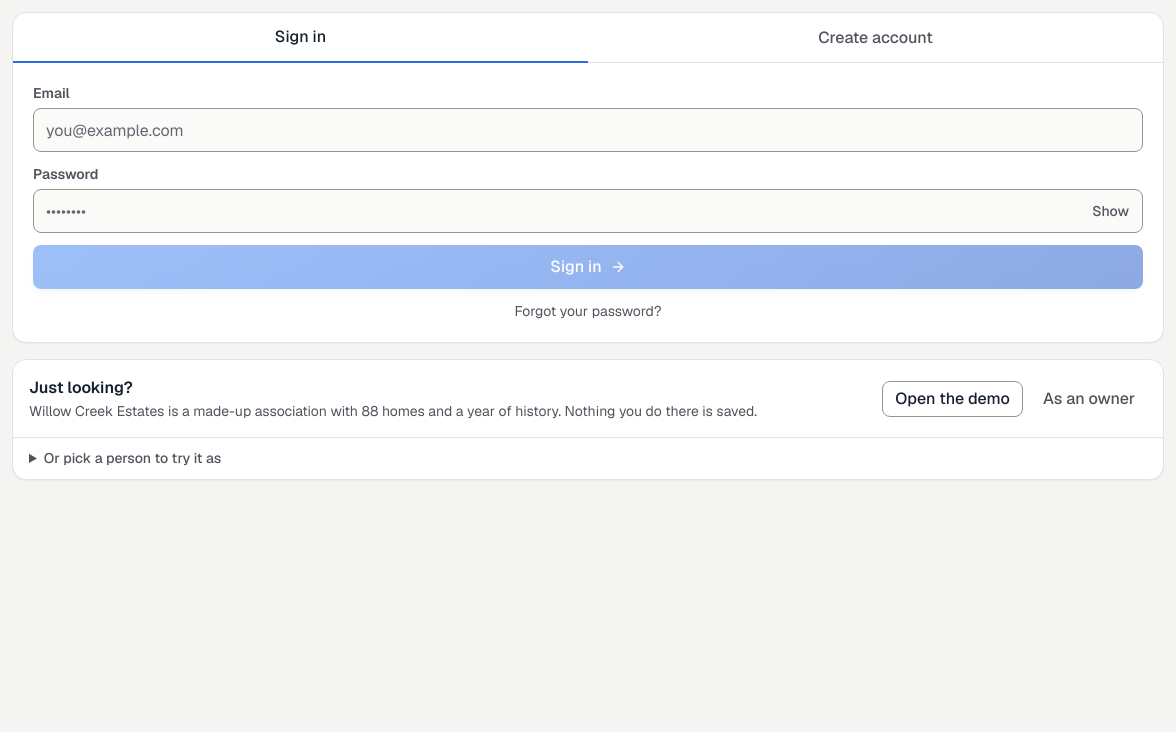
Scenario: sign in › does not let somebody choose their own unit at signup
Click the button "Create account" at [876, 38], box [588,13,1163,62]
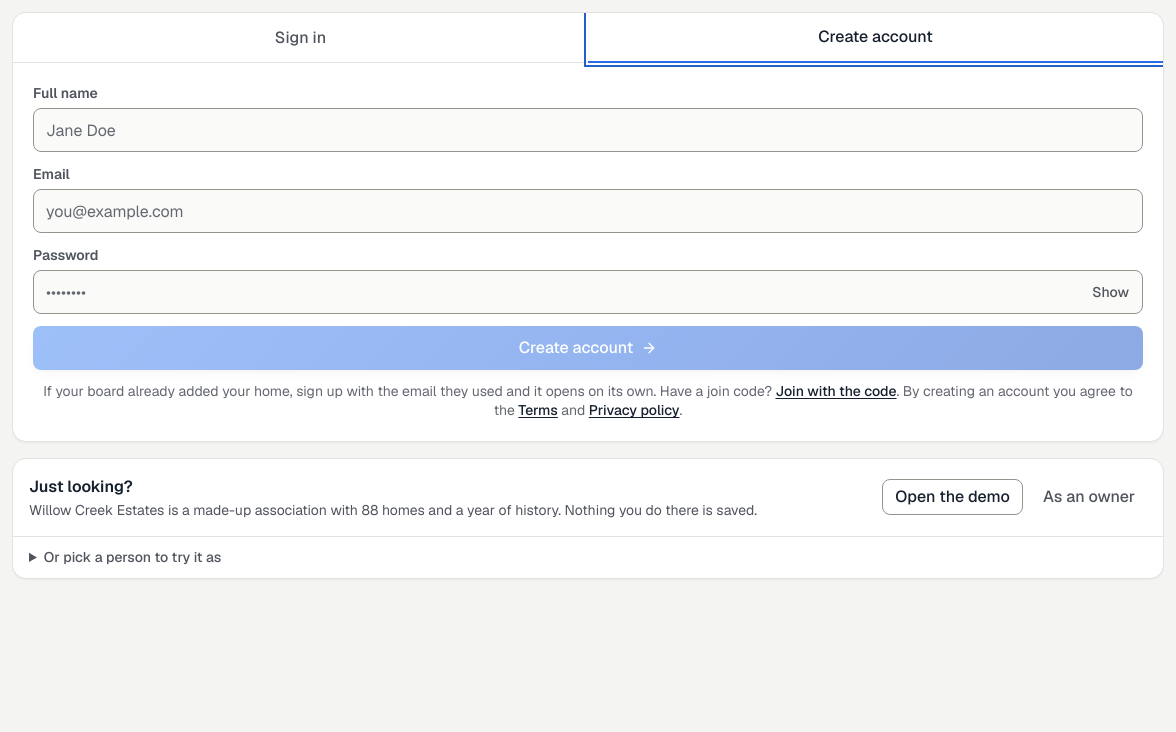
Result: the field labelled "Full name" is shown at [33,108,1143,152]
